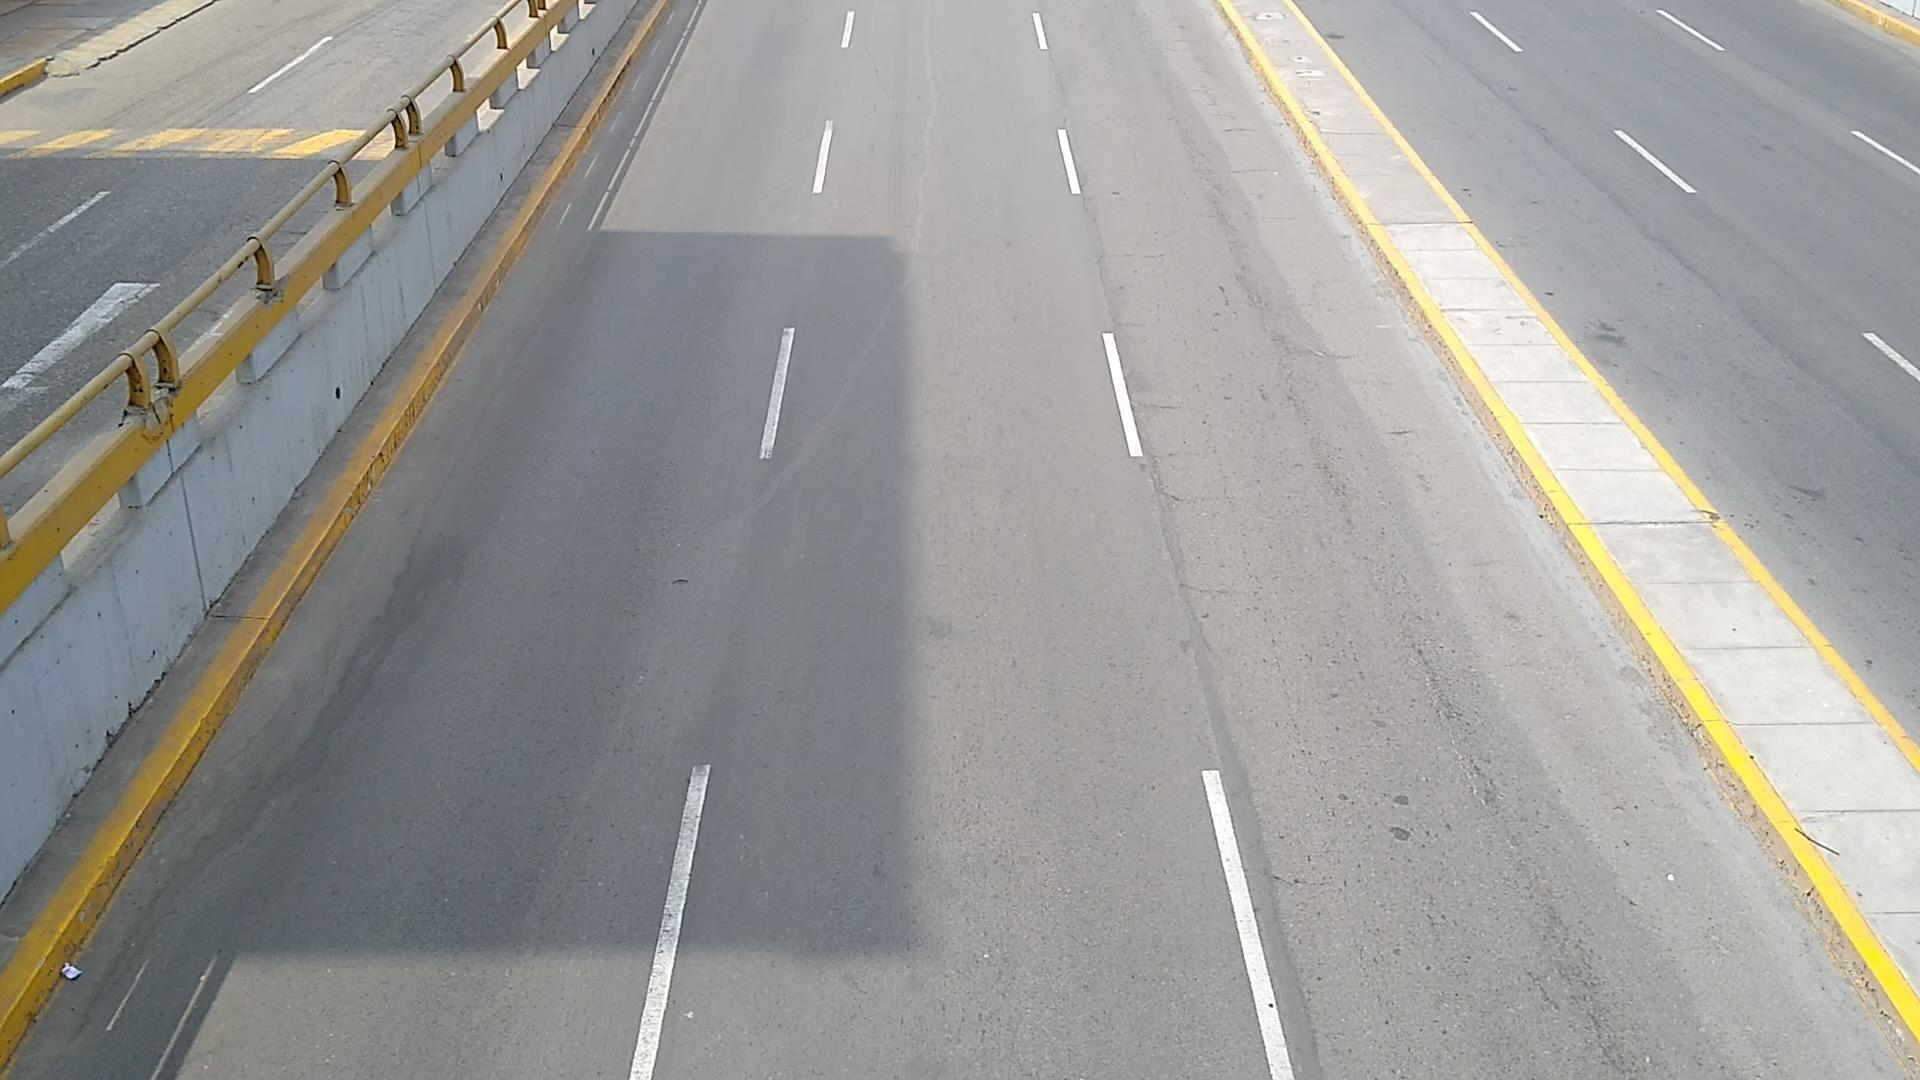car: (0, 0, 502, 444)
